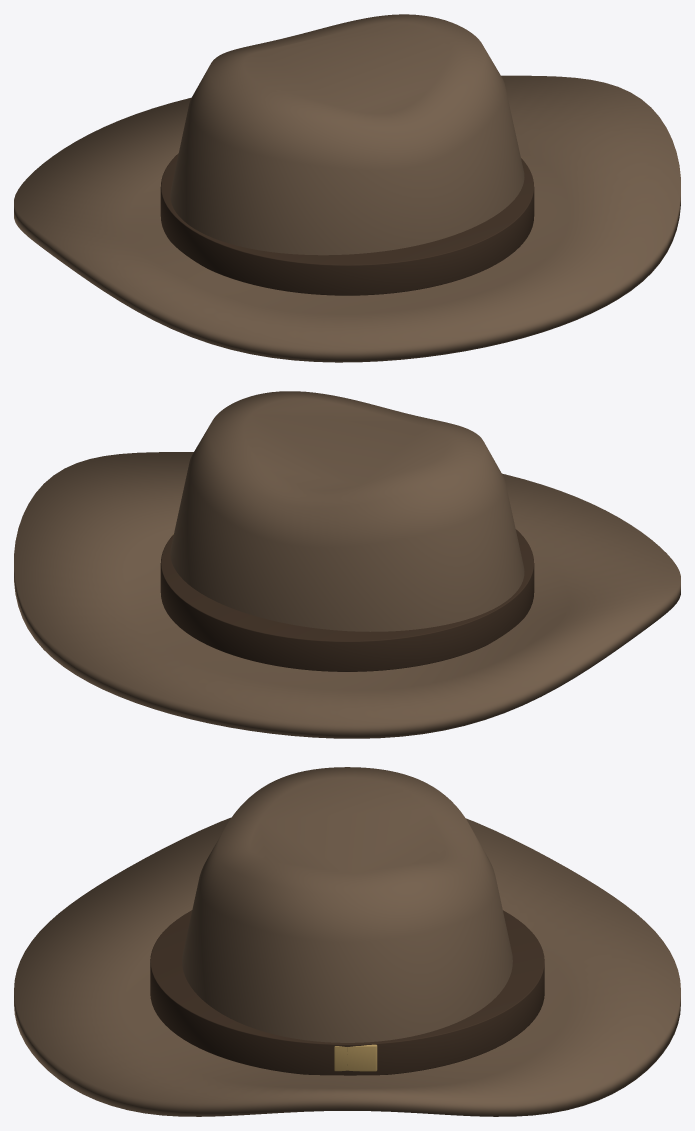
Rendered from hat.glb.
The picture shows the model from 3 angles, top to bottom: view 1: azimuth 30°, elevation 25°; view 2: azimuth 150°, elevation 25°; view 3: azimuth 270°, elevation 25°; orthographic projection. The views are drawn at different scales.
Parts seen in each view (by area): view 1: hat / Dusty umber felt, hat / Dark leather hatband; view 2: hat / Dusty umber felt, hat / Dark leather hatband; view 3: hat / Dusty umber felt, hat / Dark leather hatband, hat / Aged brass.
Part boxes in pixels (x1,y1,x2,y2): hat / Dusty umber felt: [14, 14, 680, 362]; hat / Dark leather hatband: [160, 153, 534, 295]; hat / Dusty umber felt: [14, 391, 680, 738]; hat / Dark leather hatband: [160, 529, 534, 671]; hat / Dusty umber felt: [14, 767, 680, 1116]; hat / Dark leather hatband: [150, 910, 544, 1075]; hat / Aged brass: [334, 1044, 377, 1071].
Bounding box in the file's own units: 0.36 × 0.106 × 0.3348.
